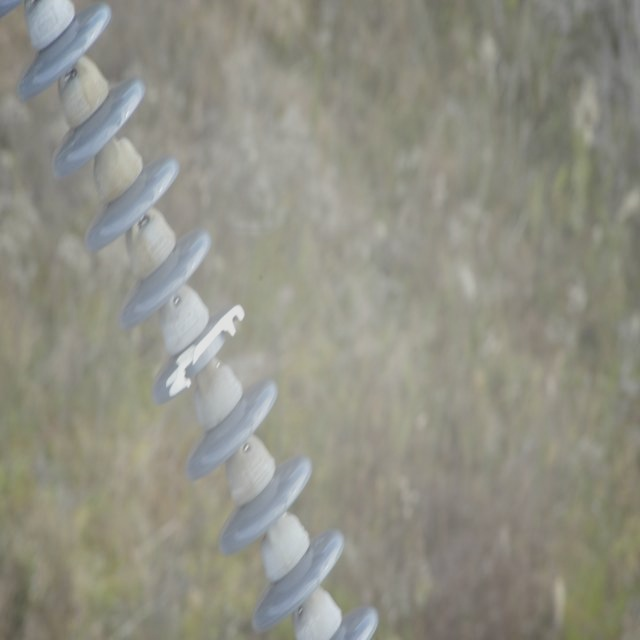broken: (165, 304, 246, 399)
insulator: (0, 2, 379, 638)
